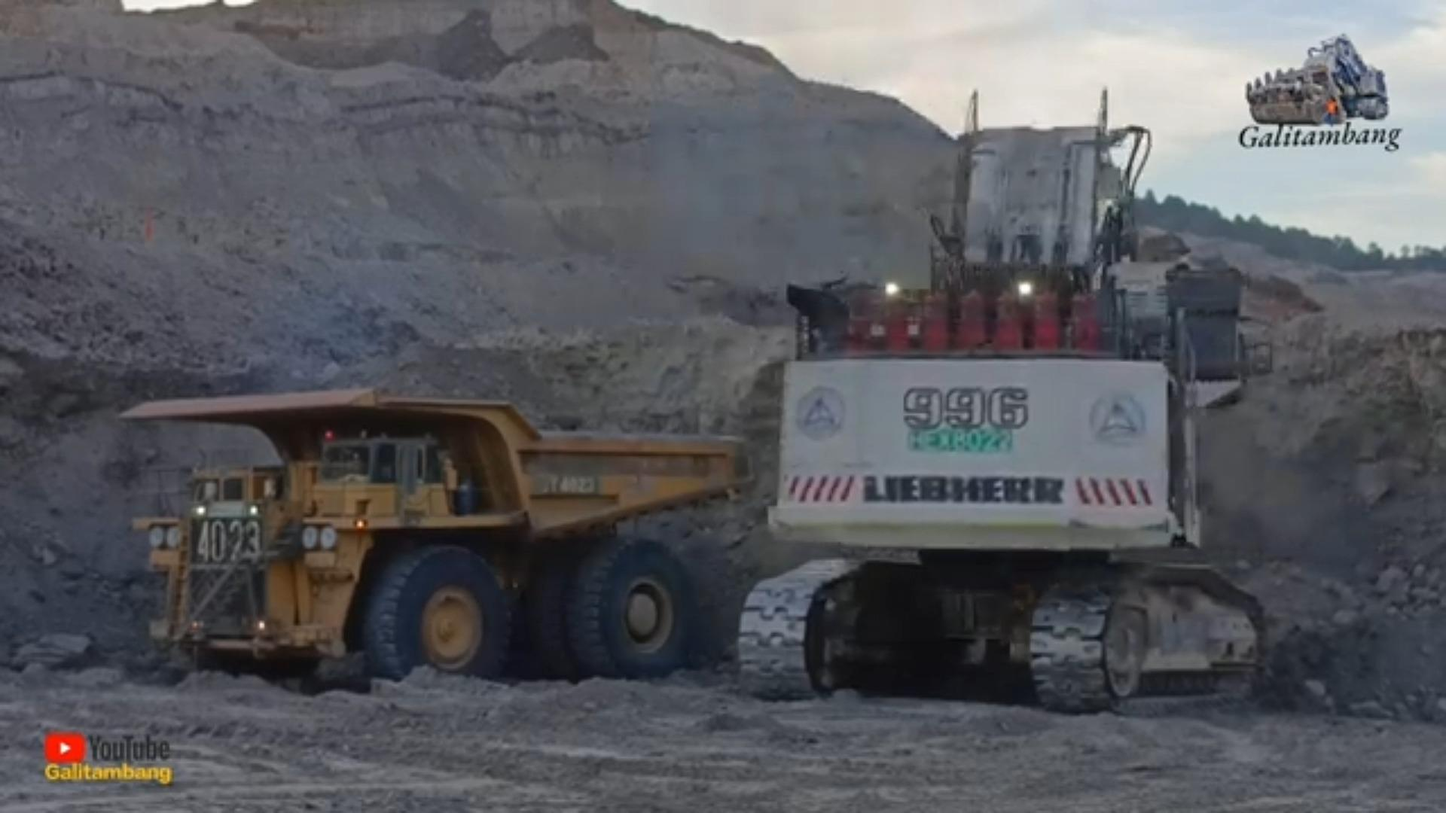Excavator: (737, 90, 1273, 713)
HD-Truck: (120, 388, 750, 679)
